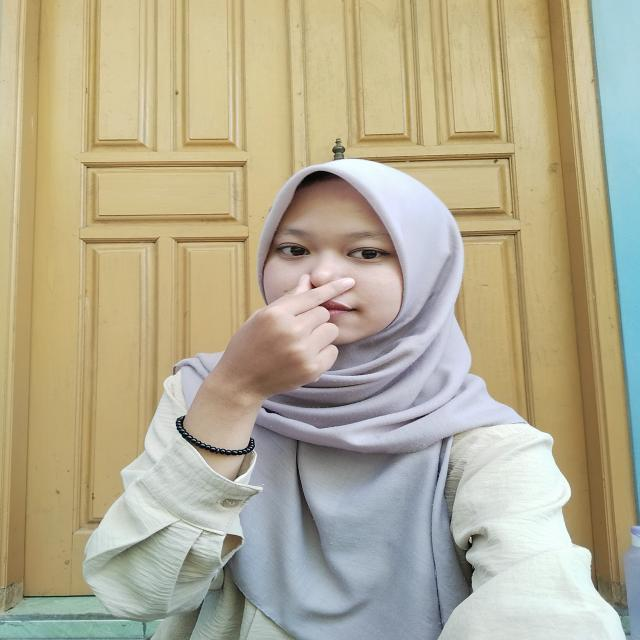bau: (222, 258, 366, 420)
